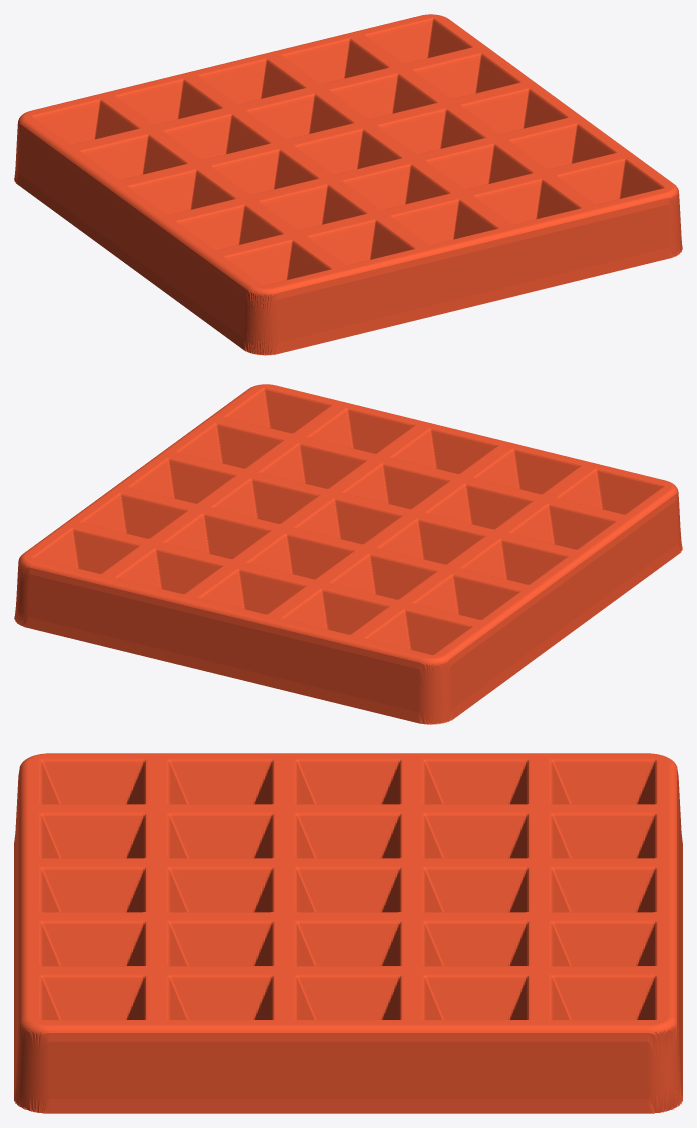
The model's file is mold.glb.
3 renders of one model, top to bottom at view 1: azimuth 30°, elevation 25°; view 2: azimuth 150°, elevation 25°; view 3: azimuth 270°, elevation 25°, orthographic. The views are drawn at different scales.
Visible parts, largest first — view 1: geometry_0; view 2: geometry_0; view 3: geometry_0.
Part boxes in pixels (x1=…): geometry_0: x1=14, y1=14, x2=682, y2=355; geometry_0: x1=14, y1=384, x2=682, y2=724; geometry_0: x1=14, y1=753, x2=682, y2=1113.
Size of the model in its own units: 0.1728 by 0.0236 by 0.1728.
